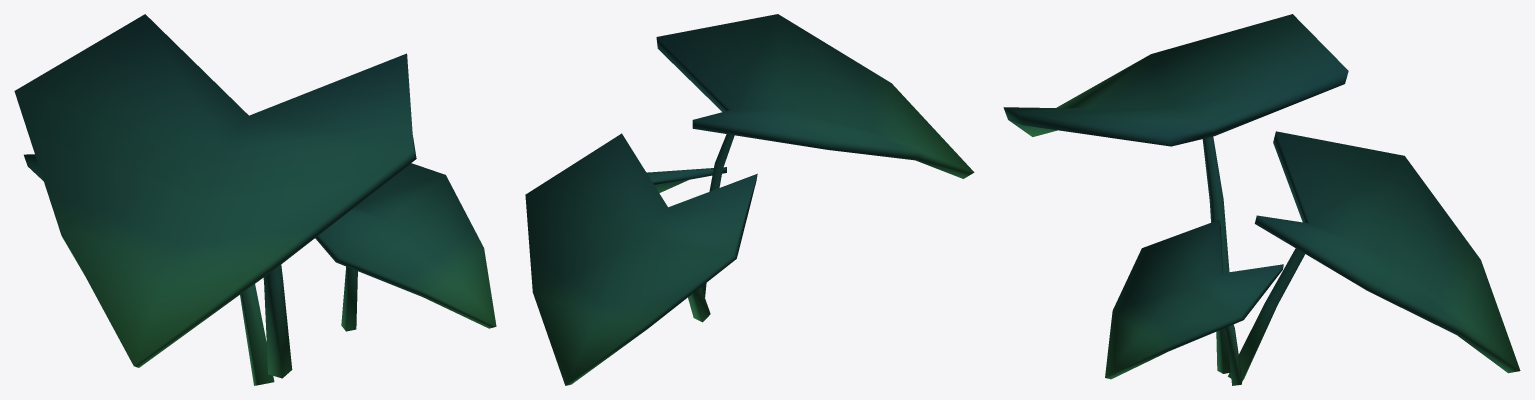
Rendered from bigleaves4.fbx.
3 views of the same model, side by side, from view 1: azimuth 30°, elevation 25°; view 2: azimuth 150°, elevation 25°; view 3: azimuth 270°, elevation 25° (orthographic). The views are drawn at different scales.
Parts seen in each view (by area): view 1: Cylinder.032; view 2: Cylinder.032; view 3: Cylinder.032.
Part boxes in pixels (bbox=[...]): Cylinder.032: bbox=[14, 14, 496, 385]; Cylinder.032: bbox=[525, 14, 974, 385]; Cylinder.032: bbox=[1003, 14, 1520, 385].
Size of the model in its own units: 19.41 by 14.29 by 23.23.
